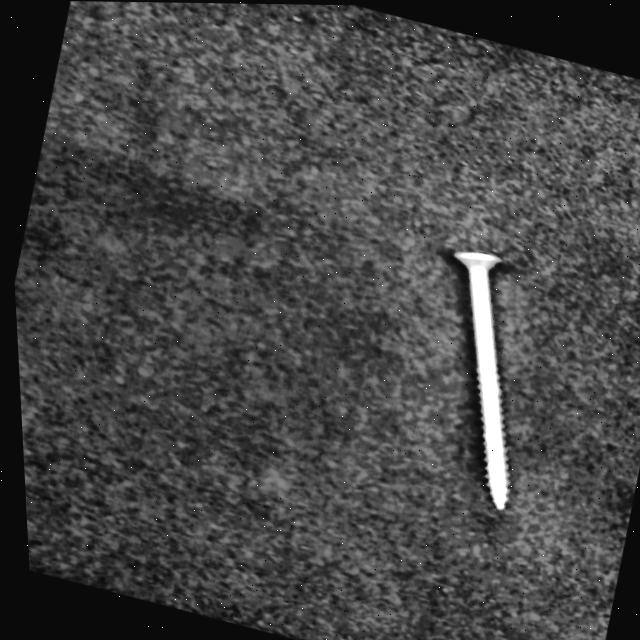Wood screw: (393, 239, 564, 509)
